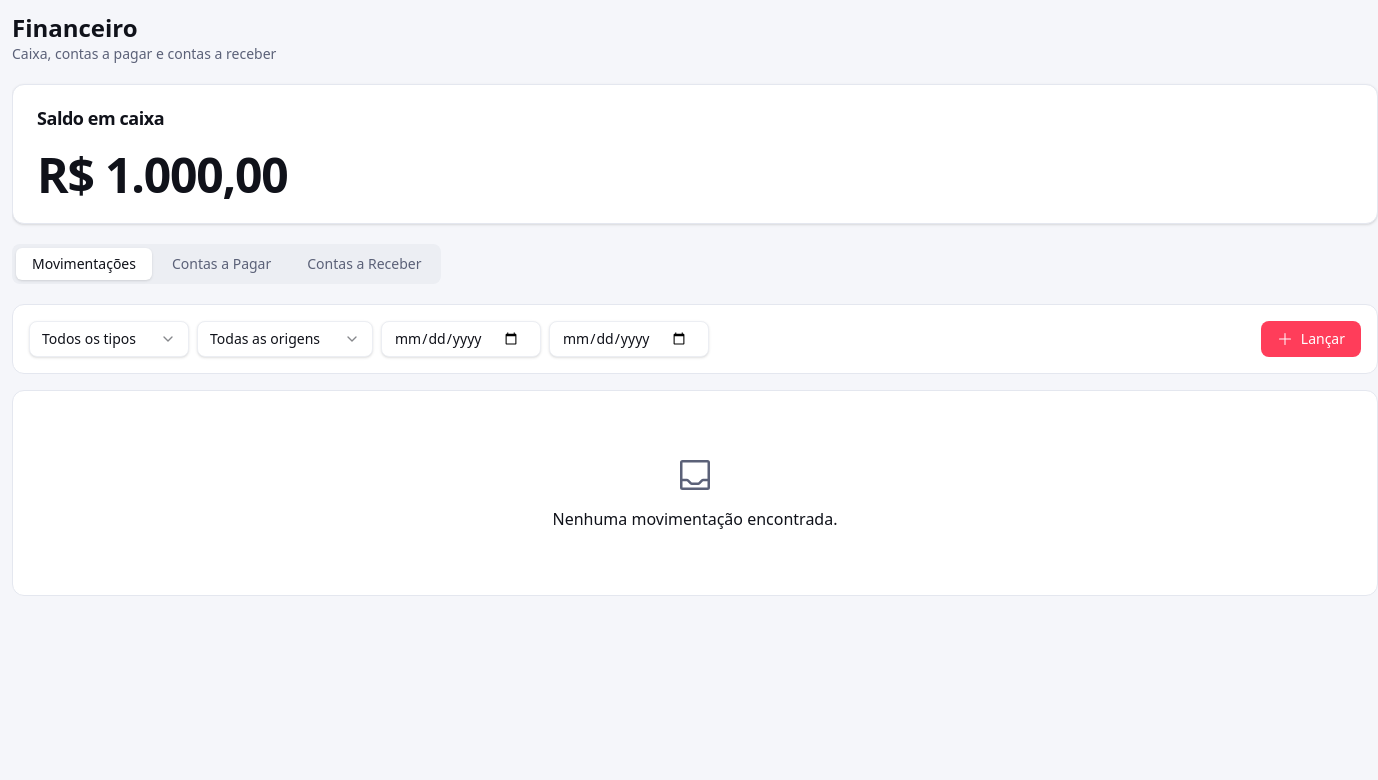
Test: Financeiro — Movimentações: estados e status semântico (PR 5) › mostra EmptyState específico na aba Contas a Receber quando vazia
What coordinates should you click on to do the following:
click the button "Contas a Receber"
I would click on:
 (364, 264)
Its box is [291,248,438,280].
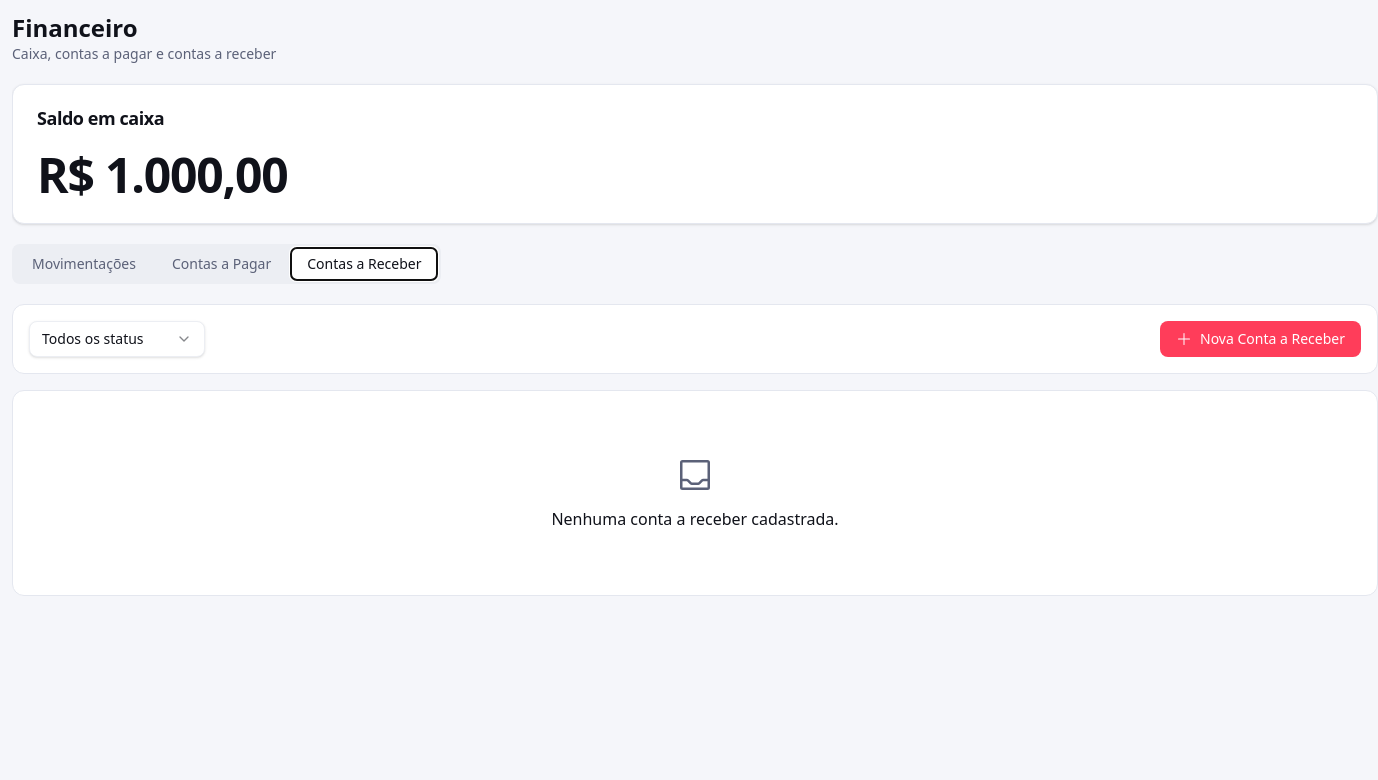
Now the text "Nenhuma conta a receber cadastrada." is shown, box [551,507,839,531]
